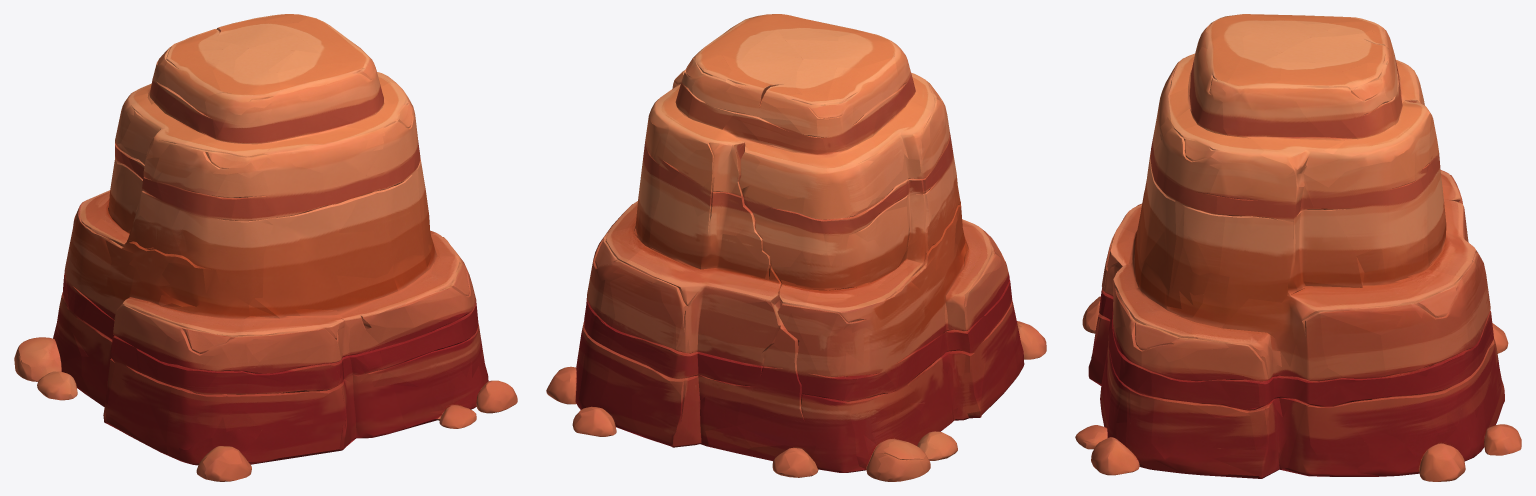
File: rocha.glb
3 views of the same model, side by side, from view 1: azimuth 30°, elevation 25°; view 2: azimuth 150°, elevation 25°; view 3: azimuth 270°, elevation 25° (orthographic). The views are drawn at different scales.
Parts seen in each view (by area): view 1: output_unwrapped; view 2: output_unwrapped; view 3: output_unwrapped.
Boxes of the visible parts, <box> form: output_unwrapped: <box>14,14,517,481</box>; output_unwrapped: <box>546,14,1046,481</box>; output_unwrapped: <box>1075,14,1521,481</box>.
Bounding box in the file's own units: 1.71 × 1.46 × 1.69.
Materials: 1 (1 with a texture image).
